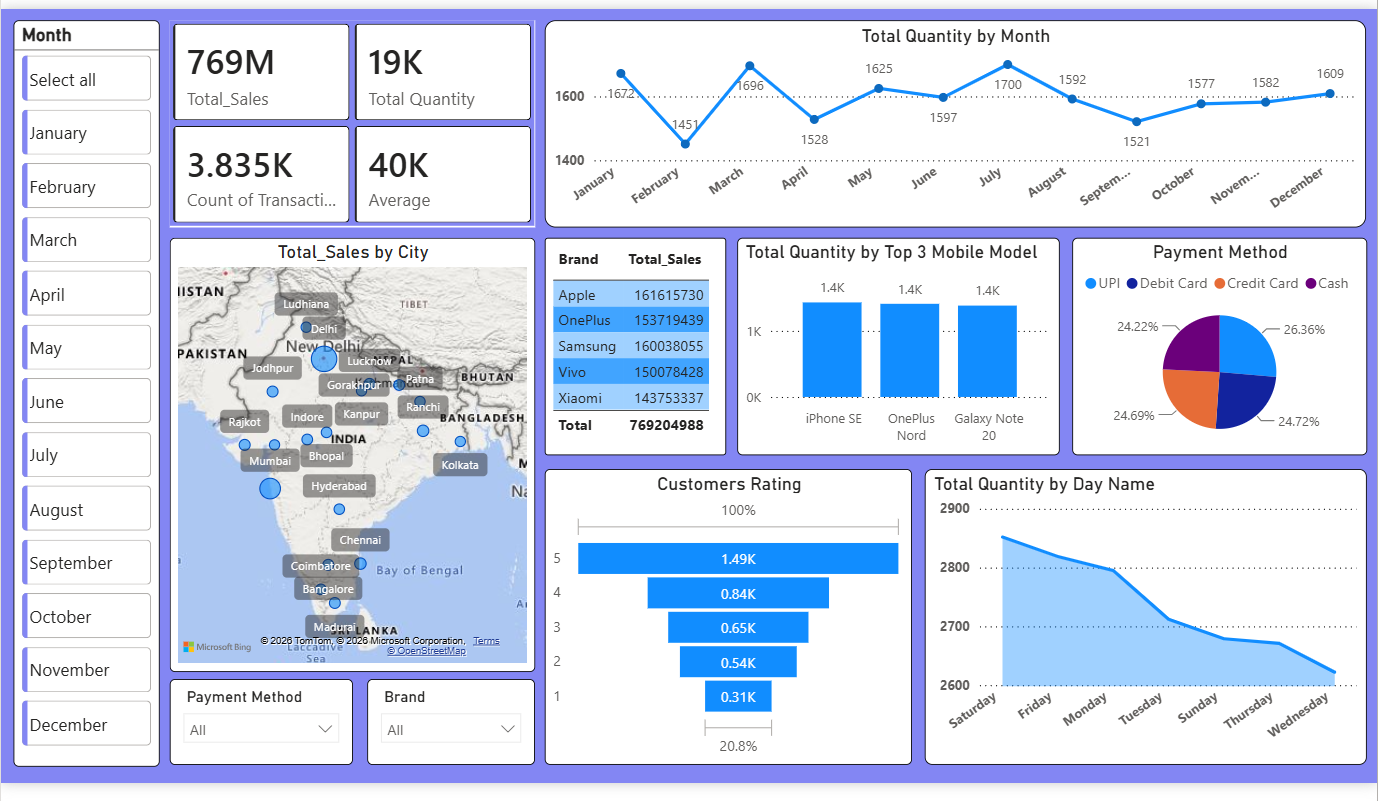

What the dashboard file says about the page in this screenshot:
{"tool":"powerbi","page":{"name":"Page 1","canvas":[1280,720],"ordinal":0},"visuals":[{"type":"image","box":[11.8,10.6,136.5,123.5],"z":0},{"type":"cardVisual","fields":{"Data":["mobile sales data.Total_Sales","mobile sales data.Total Quantity","CountNonNull(mobile sales data.Transaction ID)","mobile sales data.Average"]},"box":[157.5,10,340,192.5],"z":1000},{"type":"advancedSlicerVisual","fields":{"Values":["mobile sales data.Date.Variation.Date Hierarchy.Month"]},"box":[11.8,151.8,136.5,552.9],"z":2000},{"type":"lineChart","fields":{"Category":["mobile sales data.Date.Variation.Date Hierarchy.Month"],"Y":["mobile sales data.Total Quantity"]},"box":[506.2,10,763.8,192.5],"z":3000},{"type":"map","fields":{"Category":["mobile sales data.City"],"Size":["mobile sales data.Total_Sales"]},"box":[157.5,212.5,340,403.8],"z":4000},{"type":"slicer","fields":{"Values":["mobile sales data.Payment Method"]},"box":[157.5,623.8,170,80],"z":5000},{"type":"slicer","fields":{"Values":["mobile sales data.Brand"]},"box":[341.2,623.8,156.2,80],"z":6000},{"type":"tableEx","fields":{"Values":["mobile sales data.Brand","mobile sales data.Total_Sales"]},"box":[506.2,212.5,168.8,202.5],"z":7000},{"type":"funnel","title":"Customers Rating","fields":{"Category":["mobile sales data.Customer Ratings"],"Y":["CountNonNull(mobile sales data.Customer Ratings)"]},"box":[506.2,428.4,342,275.3],"z":8000},{"type":"pieChart","title":"Payment Method","fields":{"Category":["mobile sales data.Payment Method"],"Y":["CountNonNull(mobile sales data.Payment Method)"]},"box":[996.3,212.3,274.1,202.5],"z":9000},{"type":"columnChart","title":"Total Quantity by Top 3 Mobile Model","fields":{"Y":["mobile sales data.Total Quantity"],"Category":["mobile sales data.Mobile Model"]},"box":[685.3,212.6,300,202.1],"z":10000},{"type":"areaChart","fields":{"Y":["mobile sales data.Total Quantity"],"Category":["mobile sales data.Day Name"]},"box":[859.3,428.4,411.1,275.3],"z":11000}]}

Visuals, with their boxes in screenshot pixels (x1, y1, x2, y2), scaled from the page's 1280x720 canvas onto the 1386x801 screenshot:
image: x1=13, y1=12, x2=161, y2=149
cardVisual - mobile sales data.Total_Sales x mobile sales data.Total Quantity: x1=171, y1=11, x2=539, y2=225
advancedSlicerVisual - mobile sales data.Date.Variation.Date Hierarchy.Month: x1=13, y1=169, x2=161, y2=784
lineChart - mobile sales data.Date.Variation.Date Hierarchy.Month x mobile sales data.Total Quantity: x1=548, y1=11, x2=1375, y2=225
map - mobile sales data.City x mobile sales data.Total_Sales: x1=171, y1=236, x2=539, y2=686
slicer - mobile sales data.Payment Method: x1=171, y1=694, x2=355, y2=783
slicer - mobile sales data.Brand: x1=369, y1=694, x2=539, y2=783
tableEx - mobile sales data.Brand x mobile sales data.Total_Sales: x1=548, y1=236, x2=731, y2=462
"Customers Rating" funnel: x1=548, y1=477, x2=918, y2=783
"Payment Method" pieChart: x1=1079, y1=236, x2=1376, y2=461
"Total Quantity by Top 3 Mobile Model" columnChart: x1=742, y1=237, x2=1067, y2=461
areaChart - mobile sales data.Total Quantity x mobile sales data.Day Name: x1=930, y1=477, x2=1376, y2=783
